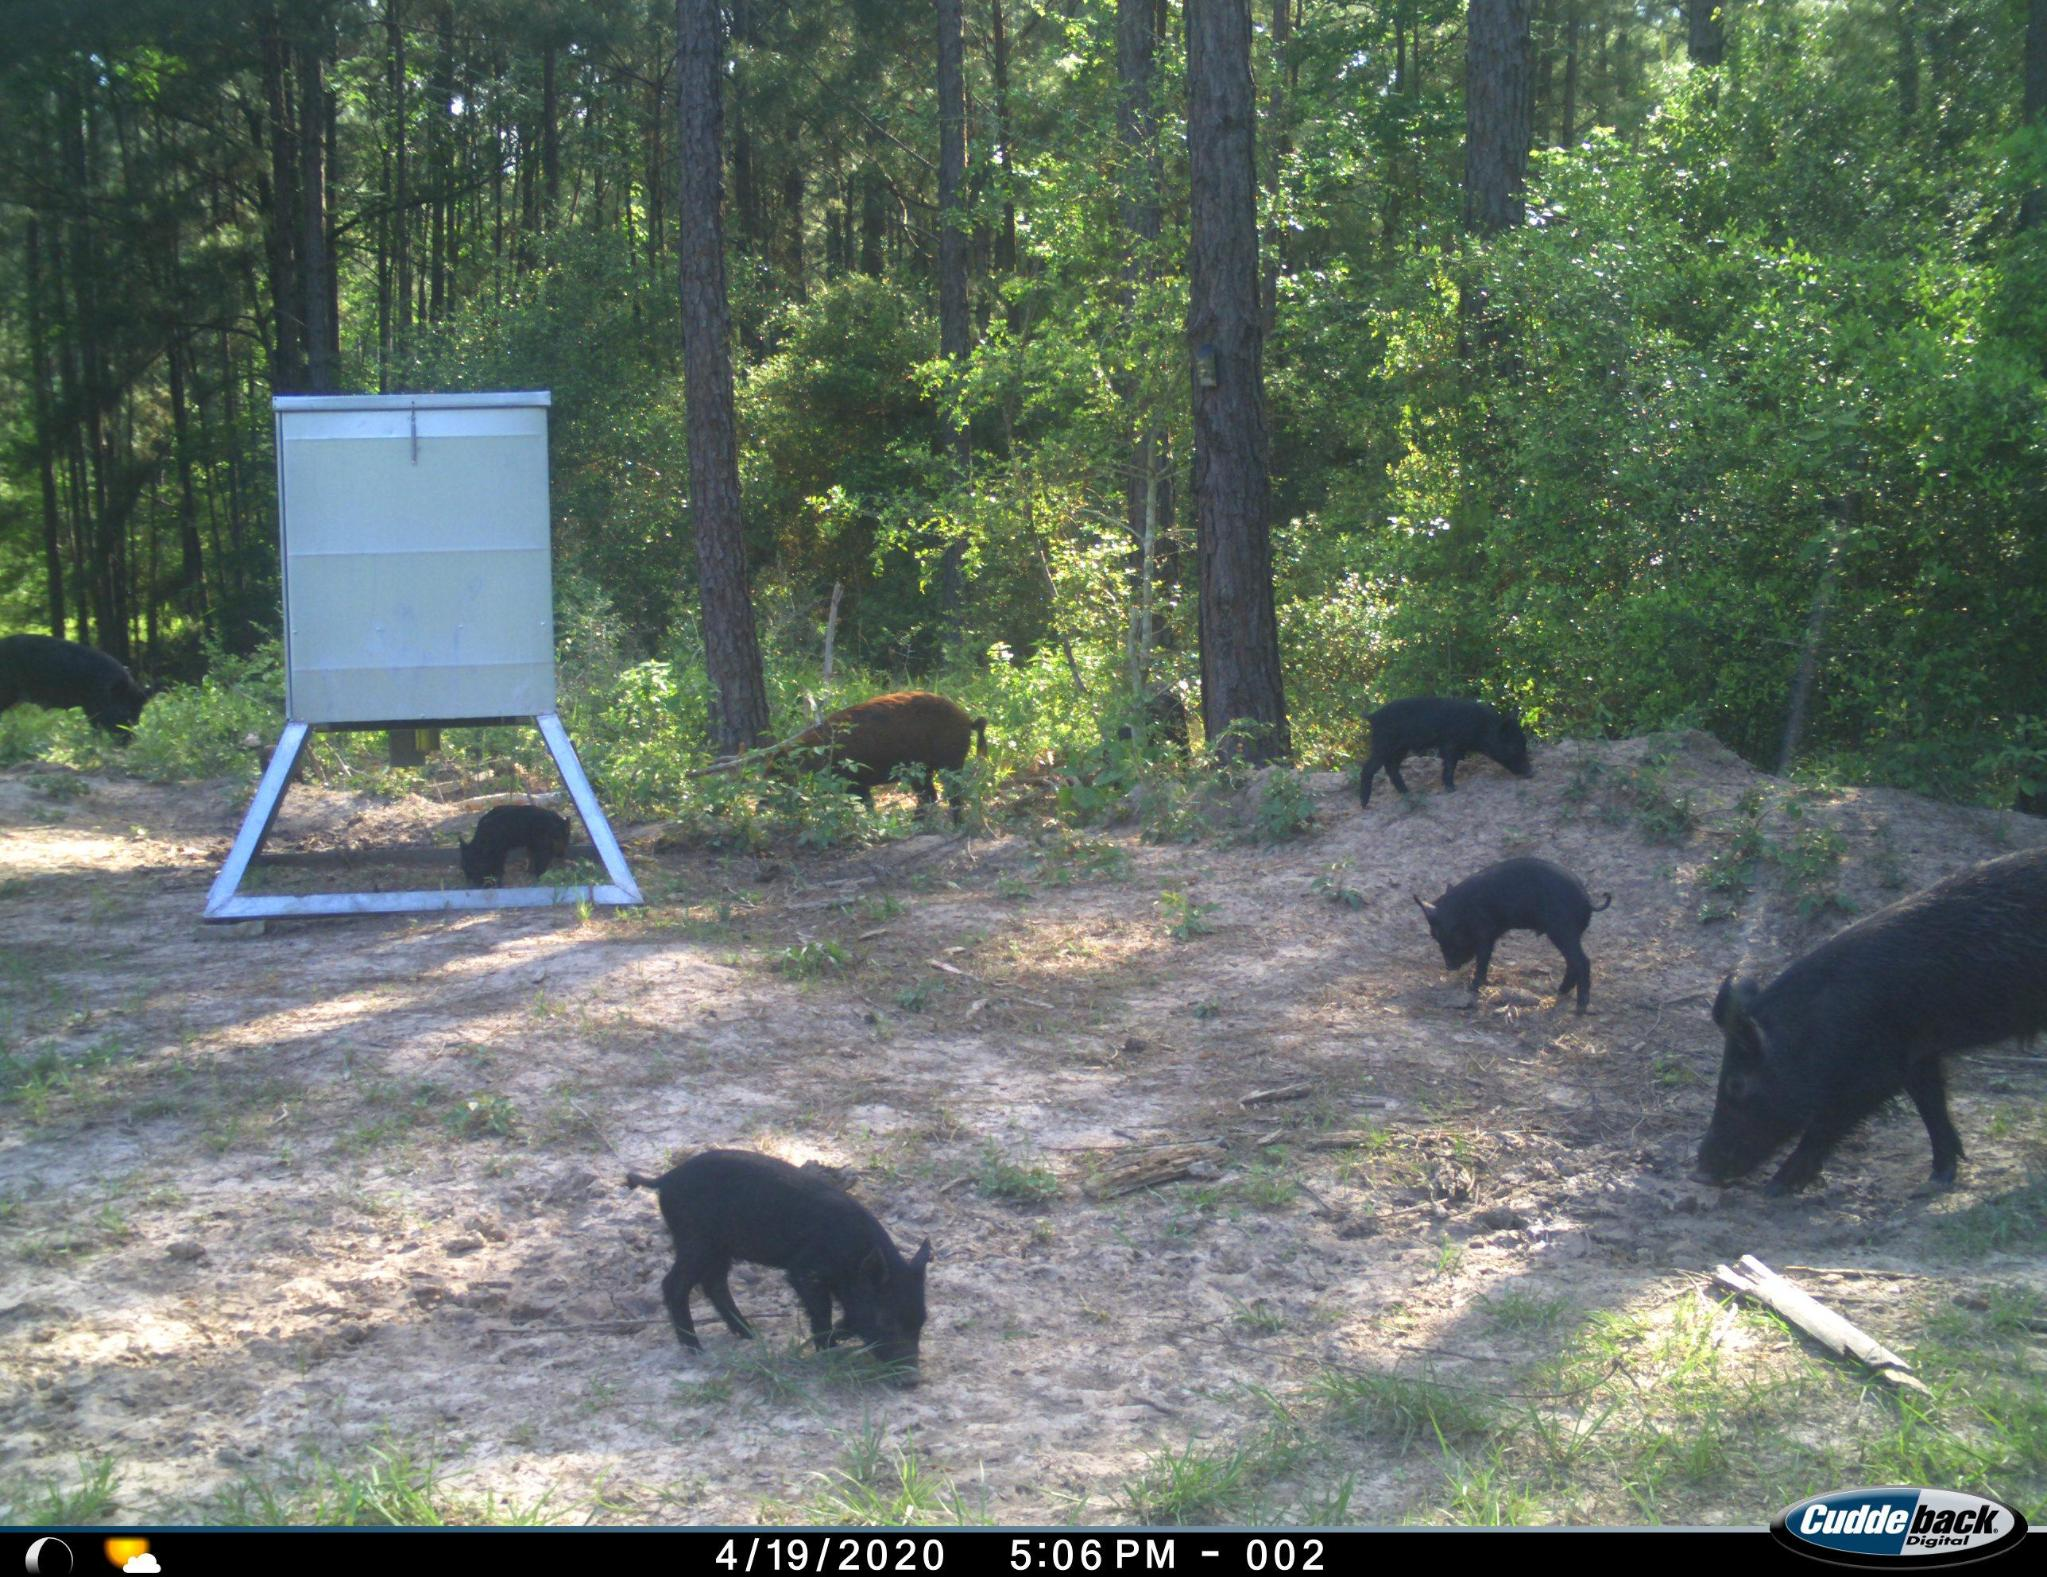Hog: (1681, 833, 2047, 1216), (604, 1148, 956, 1390), (1403, 848, 1625, 1017), (760, 682, 1004, 817), (1350, 684, 1545, 810), (0, 623, 147, 757), (446, 797, 573, 886)
